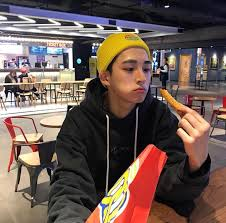people: (70, 34, 186, 223)
